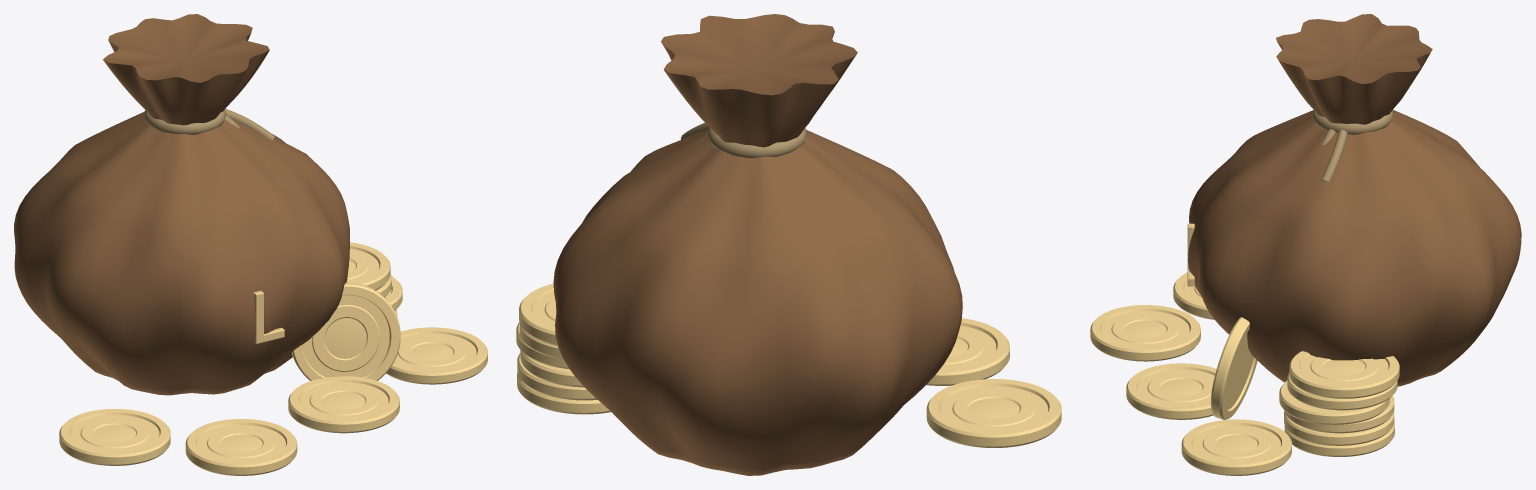
Rendered from moneybag.glb.
3 renders of one model, left to right at view 1: azimuth 30°, elevation 25°; view 2: azimuth 150°, elevation 25°; view 3: azimuth 270°, elevation 25°, orthographic. The views are drawn at different scales.
Parts seen in each view (by area): view 1: sack, lean, f.003, f.001, f, f.002, c.005, tie, sign; view 2: sack, f.001, f.003, c.005, c, tie, c.001, c.002, c.003; view 3: sack, f.003, f.002, f, c.005, lean, c.003, c.001, c.004, c, c.002, f.001 (+2 smaller).
Part boxes in pixels (x1,y1,x2,y2): sack: (14, 14, 349, 395); lean: (291, 282, 400, 380); f.003: (185, 419, 297, 475); f.001: (59, 409, 170, 465); f: (288, 376, 399, 433); f.002: (386, 327, 487, 384); c.005: (347, 242, 390, 290); tie: (144, 109, 226, 134); sign: (253, 290, 284, 343); sack: (553, 14, 962, 475); f.001: (926, 379, 1061, 447); f.003: (926, 318, 1009, 385); c.005: (519, 283, 557, 345); c: (517, 373, 610, 414); tie: (707, 127, 807, 158); c.001: (517, 353, 597, 400); c.002: (520, 350, 583, 387); c.003: (516, 322, 569, 368); sack: (1188, 14, 1521, 386); f.003: (1090, 305, 1200, 361); f.002: (1181, 419, 1291, 475); f: (1126, 363, 1216, 419); c.005: (1289, 351, 1399, 398); lean: (1210, 317, 1257, 419); c.003: (1279, 380, 1389, 424); c.001: (1284, 412, 1394, 445); c.004: (1287, 372, 1397, 410); c: (1284, 422, 1394, 456); c.002: (1284, 396, 1394, 433); f.001: (1173, 272, 1214, 319).
Size of the model in its own units: 1.73 by 1.27 by 1.56.
